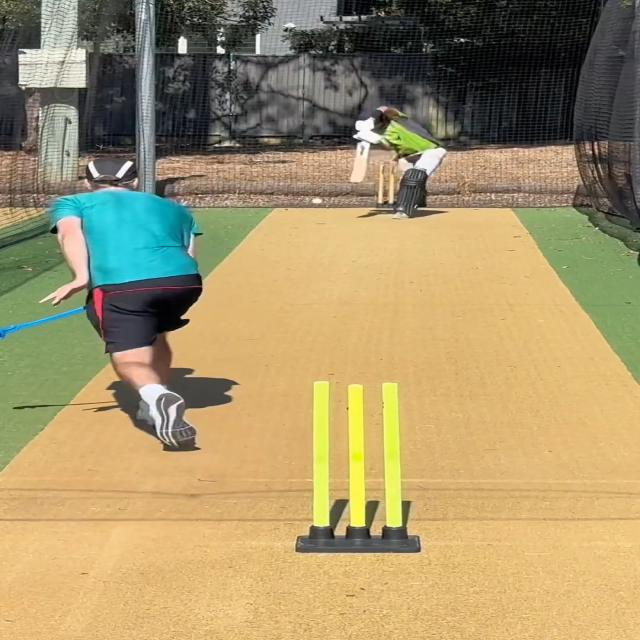ball: (308, 197, 326, 206)
stump: (293, 379, 422, 555)
